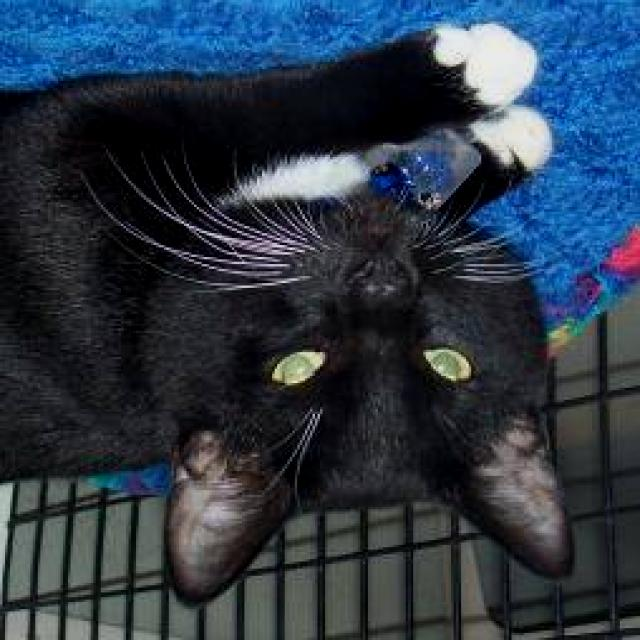Kucing: (7, 12, 592, 614)
